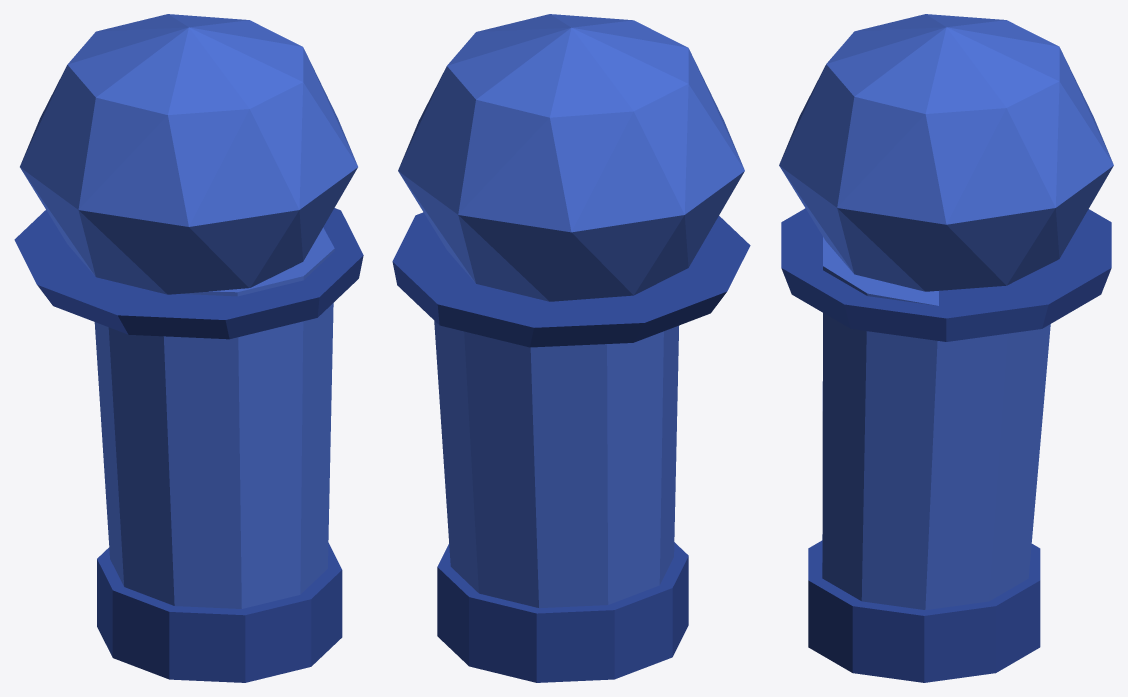
Rendered from gear_mithril_body_arm_r.glb.
The picture shows the model from 3 angles, left to right: view 1: azimuth 30°, elevation 25°; view 2: azimuth 150°, elevation 25°; view 3: azimuth 270°, elevation 25°; orthographic projection. The views are drawn at different scales.
Parts seen in each view (by area): view 1: gear_mithril_body_arm_r; view 2: gear_mithril_body_arm_r; view 3: gear_mithril_body_arm_r.
Part boxes in pixels (x1=…): gear_mithril_body_arm_r: x1=14, y1=14, x2=363, y2=682; gear_mithril_body_arm_r: x1=392, y1=14, x2=750, y2=682; gear_mithril_body_arm_r: x1=779, y1=14, x2=1113, y2=682.
Bounding box in the file's own units: 0.188 × 0.355 × 0.1812.
